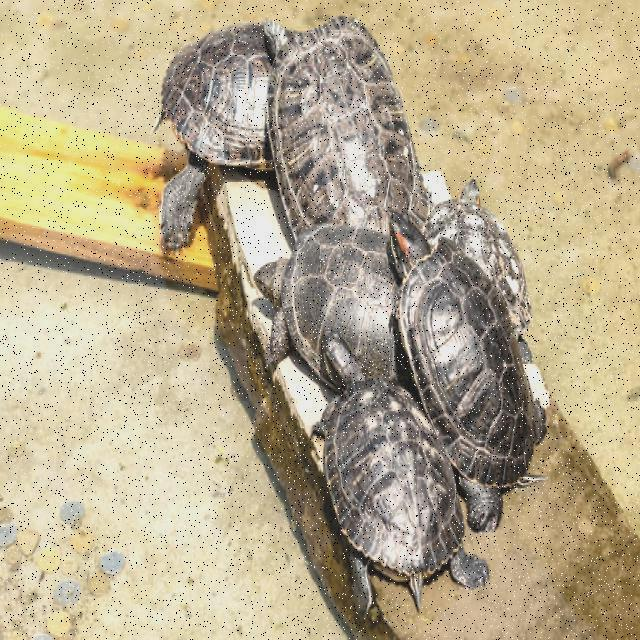tortoise: (301, 329, 494, 619), (384, 201, 538, 489), (260, 25, 420, 242), (146, 18, 256, 260), (253, 222, 381, 394)
